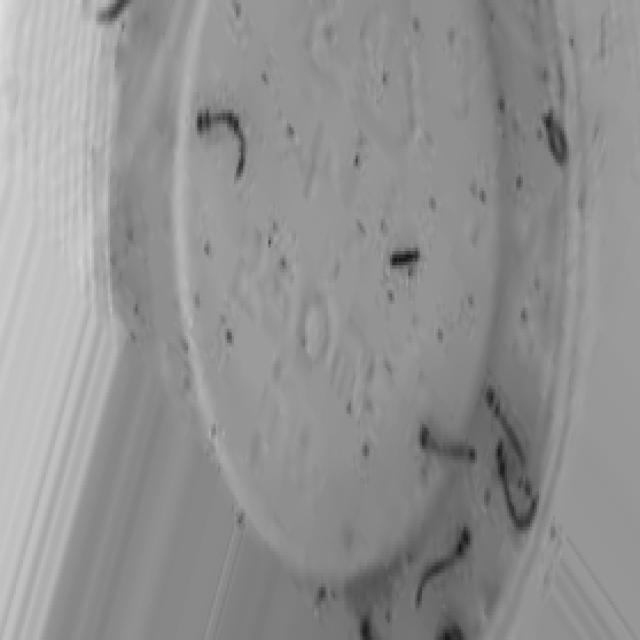larvas: (479, 434, 542, 543), (482, 372, 542, 481), (416, 525, 474, 603), (193, 108, 247, 186), (419, 425, 478, 460), (543, 107, 569, 162), (89, 0, 134, 26), (386, 246, 424, 270), (436, 620, 466, 640), (360, 610, 373, 640)
